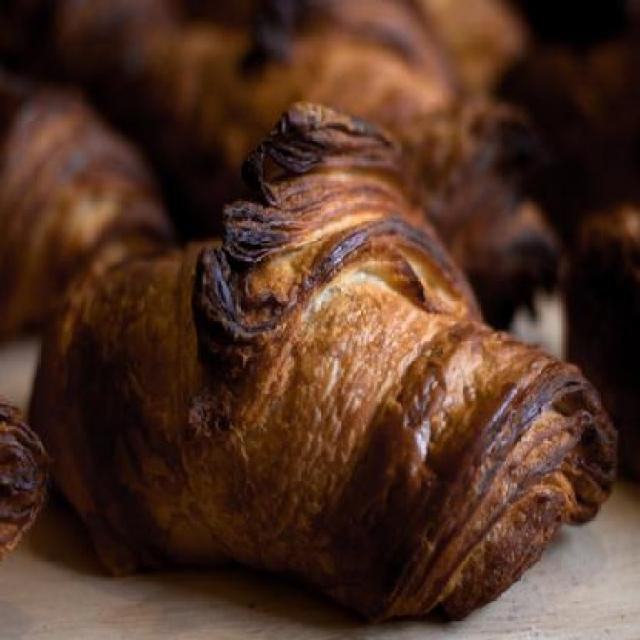Croissant: (26, 99, 614, 623), (57, 0, 566, 331), (0, 86, 178, 340), (0, 398, 54, 568)
